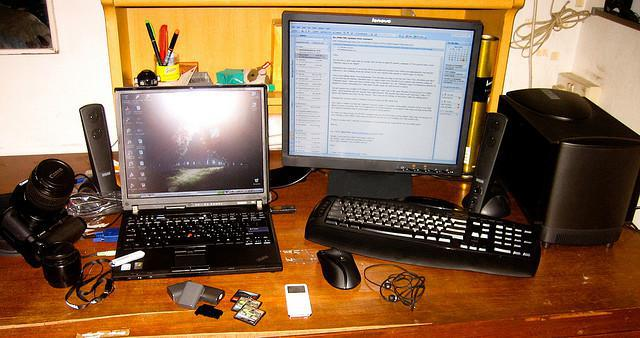tv: (288, 10, 468, 206), (113, 87, 276, 272)
